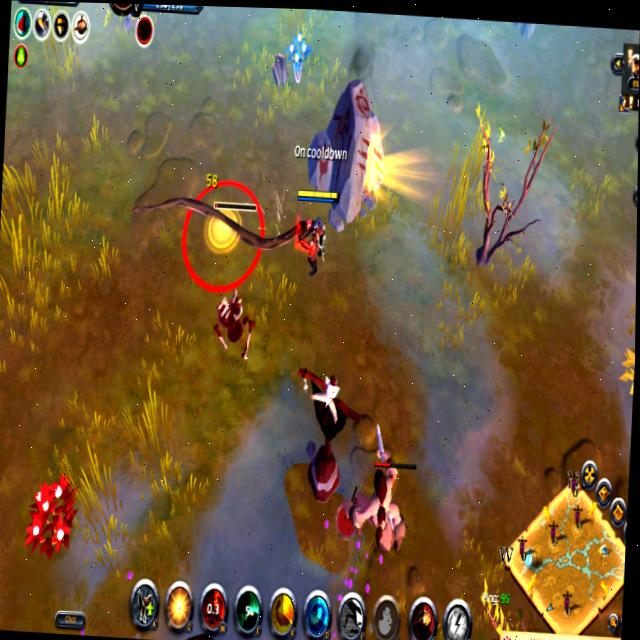hide: (22, 466, 82, 568), (278, 24, 314, 102)
ore: (117, 161, 320, 321), (344, 421, 422, 578)
red: (285, 182, 343, 291)
